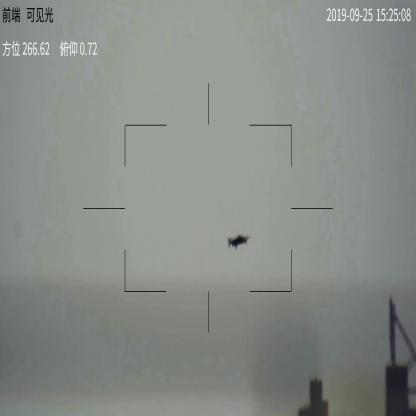uav: (228, 233, 249, 250)
